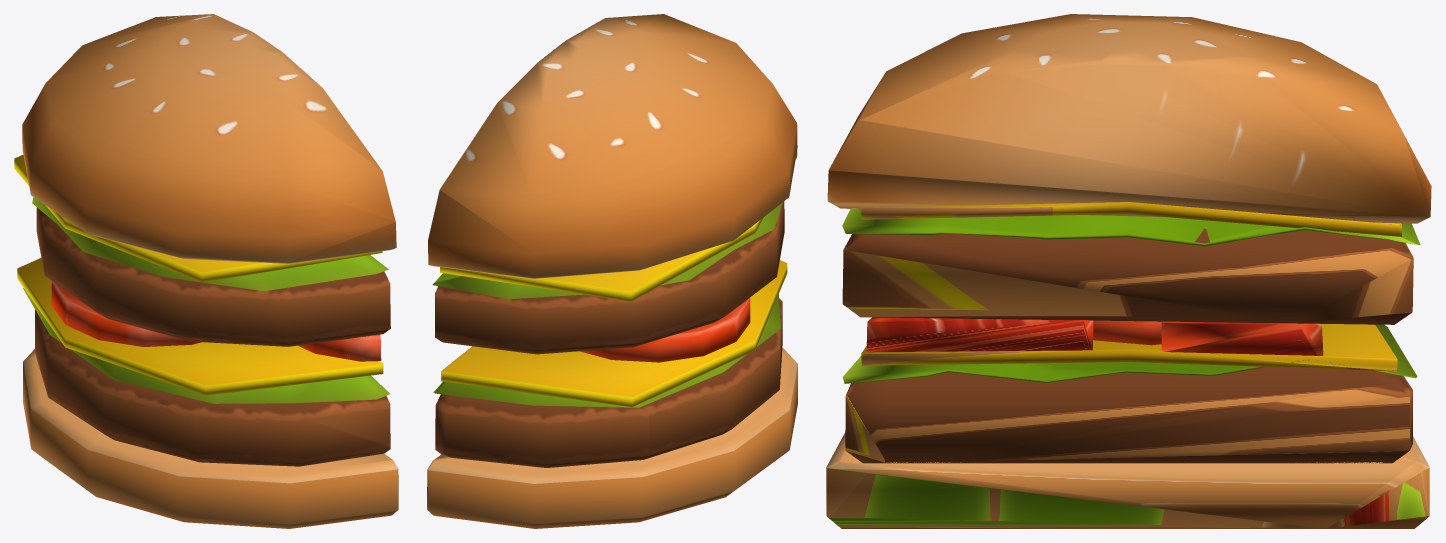
File: burger02.fbx
The picture shows the model from 3 angles, left to right: view 1: azimuth 30°, elevation 25°; view 2: azimuth 150°, elevation 25°; view 3: azimuth 270°, elevation 25°; orthographic projection. The views are drawn at different scales.
Parts seen in each view (by area): view 1: Hambuger.001; view 2: Hambuger.001; view 3: Hambuger.001.
Boxes of the visible parts, x1,y1,x2,y2 form: Hambuger.001: (14, 14, 398, 528); Hambuger.001: (427, 14, 797, 528); Hambuger.001: (826, 14, 1431, 528).
Size of the model in its own units: 11.07 by 19.04 by 22.58.
